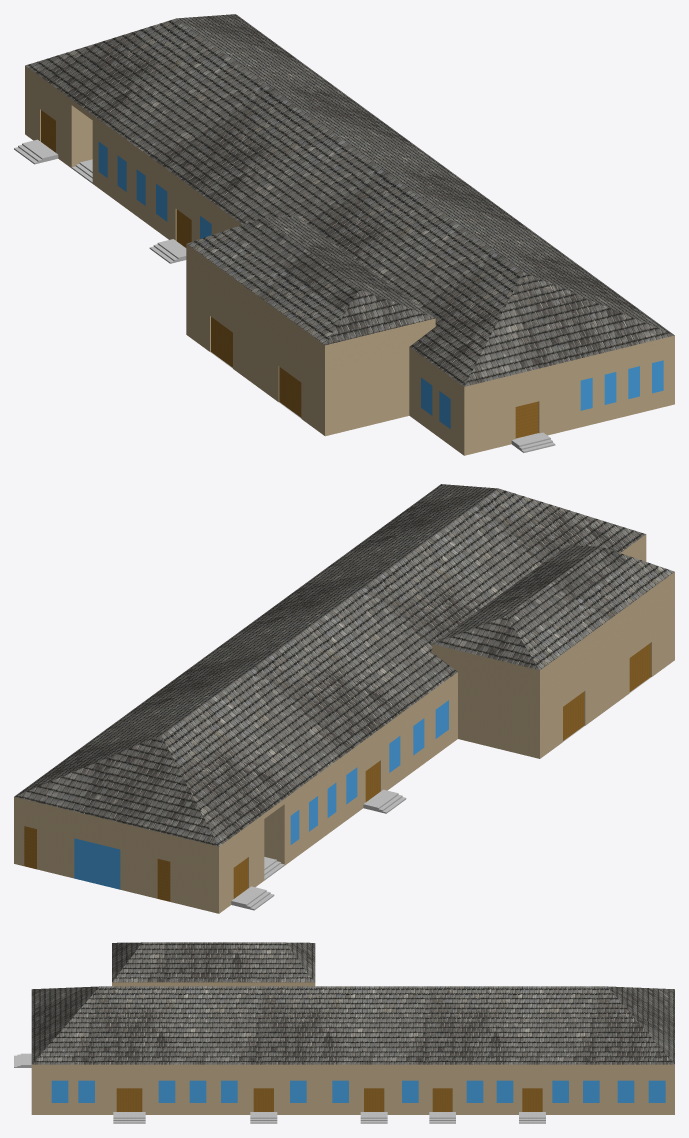
The model's file is 35kV_Substation.glb.
3 renders of one model, top to bottom at view 1: azimuth 30°, elevation 25°; view 2: azimuth 150°, elevation 25°; view 3: azimuth 270°, elevation 25°, orthographic. The views are drawn at different scales.
Parts seen in each view (by area): view 1: Roof, Floor1; view 2: Roof, Floor1; view 3: Roof, Floor1.
Part boxes in pixels (x1=…): Roof: x1=25, y1=14, x2=674, y2=392; Floor1: x1=14, y1=71, x2=674, y2=455; Roof: x1=14, y1=484, x2=674, y2=851; Floor1: x1=14, y1=540, x2=674, y2=913; Roof: x1=31, y1=942, x2=674, y2=1068; Floor1: x1=14, y1=1053, x2=674, y2=1123.
Size of the model in its own units: 24.2 by 9 by 59.32.
5 materials, 5 textured.
